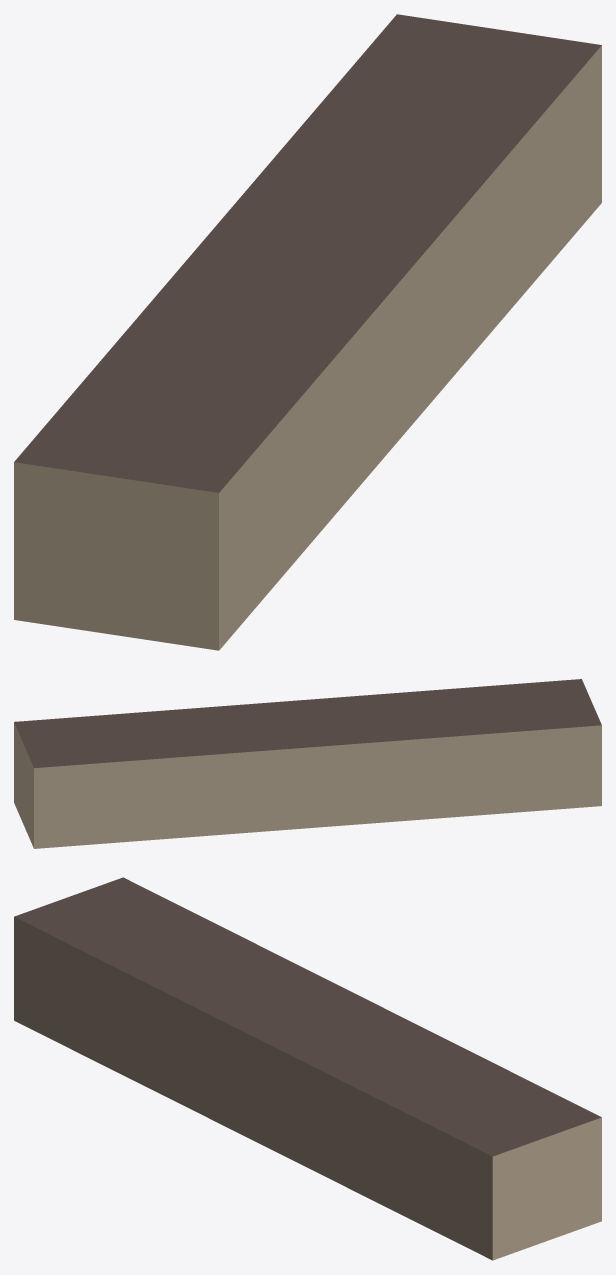
3 views of the same model, one above another, from view 1: azimuth 30°, elevation 25°; view 2: azimuth 150°, elevation 25°; view 3: azimuth 270°, elevation 25° (orthographic). The views are drawn at different scales.
Visible parts, largest first — view 1: HP-w859488713; view 2: HP-w859488713; view 3: HP-w859488713.
Part boxes in pixels (left/top/right/bottom): HP-w859488713: left=14, top=14, right=601, bottom=650; HP-w859488713: left=14, top=679, right=601, bottom=848; HP-w859488713: left=14, top=877, right=601, bottom=1260.
Size of the model in its own units: 51.83 by 9 by 46.12.
